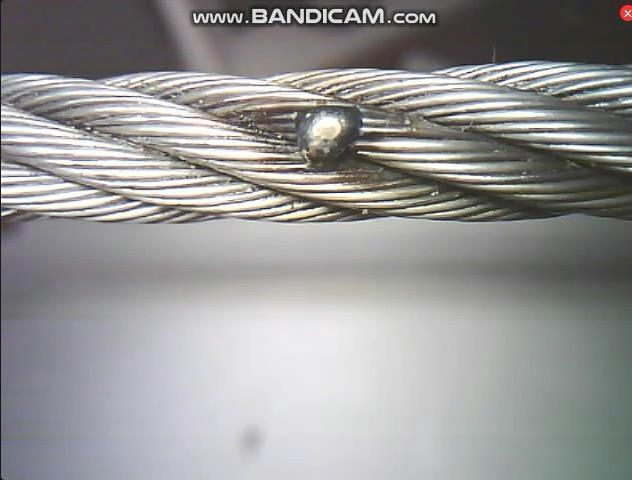thunderbolt: (263, 93, 378, 173)
